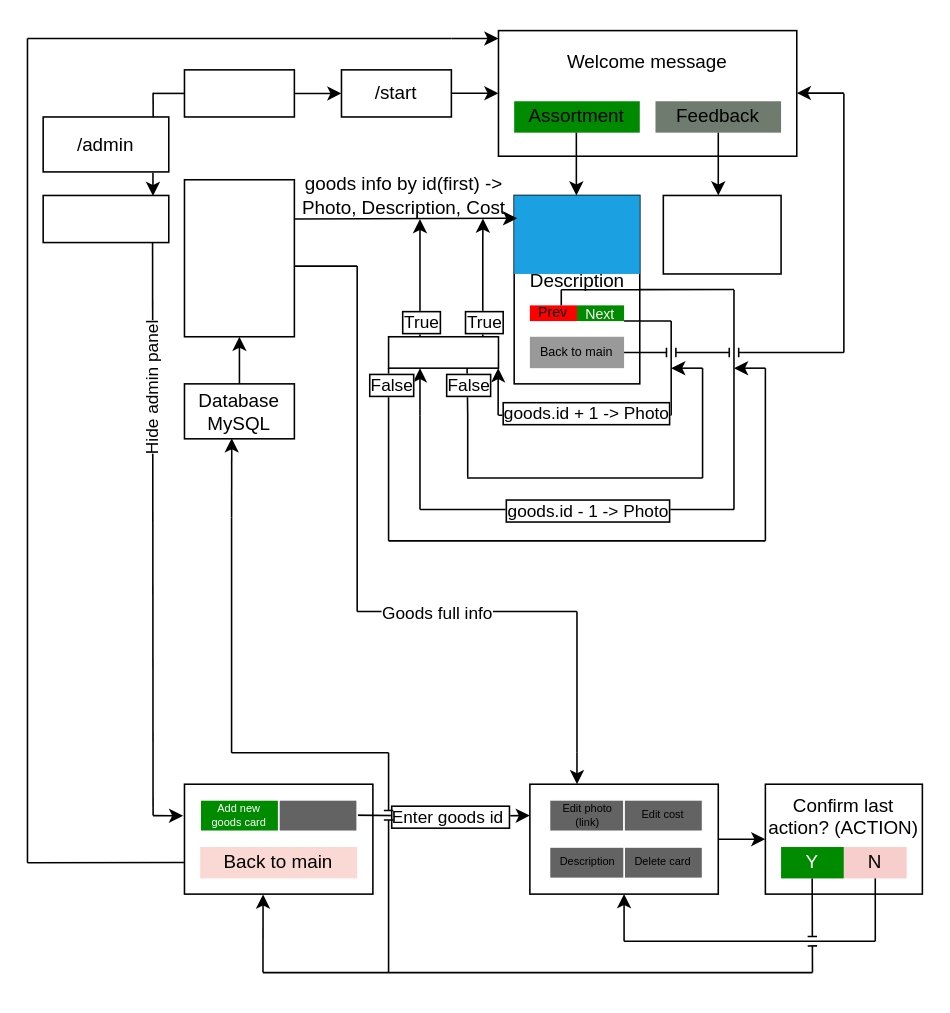
Some shapes in this 950 by 1013 pixel diagram are drawn without their labels. Here are the shapes that lost their labels. From the top down, the centre of each, then its label:
At [238,92]: "teleBot".
At [105,218]: "password".
At [576,234]: "Photo".
At [721,234]: "Redirect on VK or Database".
At [238,257]: "DB format GoodsID: INT; Name: STR; PhotoURL: STR; Description: STR; Cost: STR;".
At [442,351]: "goods.id.amount <> 0".
At [317,814]: "Edit goods card".
